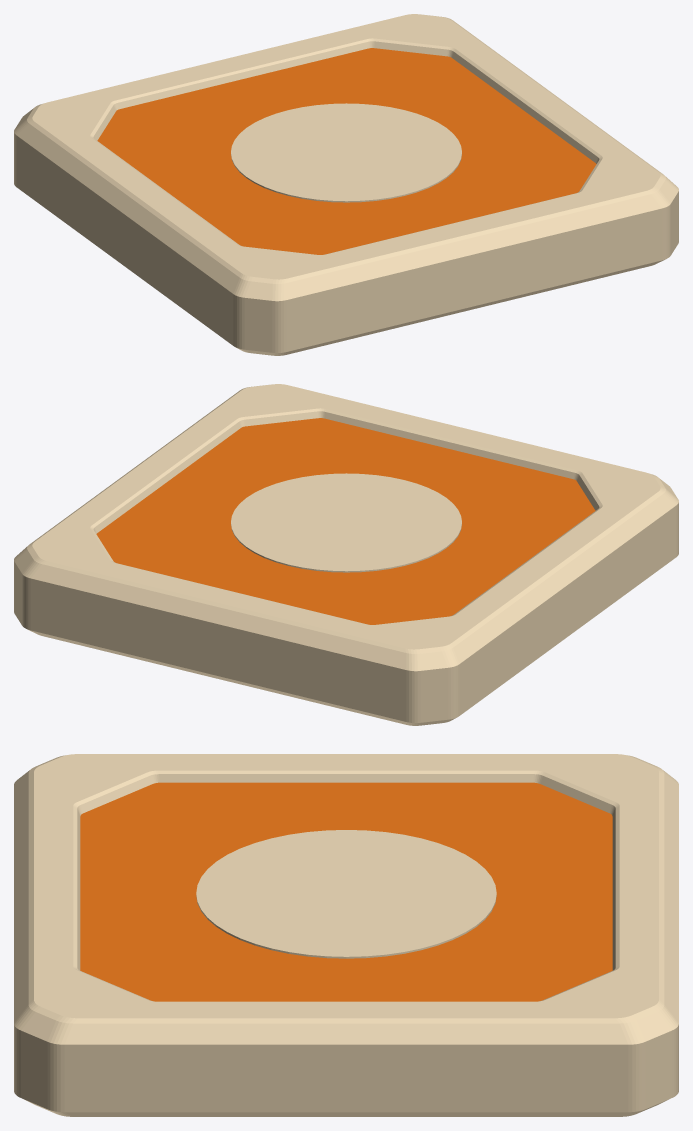
The model's file is direction_tile.glb.
The picture shows the model from 3 angles, top to bottom: view 1: azimuth 30°, elevation 25°; view 2: azimuth 150°, elevation 25°; view 3: azimuth 270°, elevation 25°; orthographic projection. The views are drawn at different scales.
Parts seen in each view (by area): view 1: direction_tile; view 2: direction_tile; view 3: direction_tile.
Part boxes in pixels (box(x1,y1,x2,y2)): direction_tile: box(14, 14, 678, 355); direction_tile: box(14, 384, 678, 725); direction_tile: box(14, 754, 678, 1116).
Bounding box in the file's own units: 1 × 0.16 × 1.
